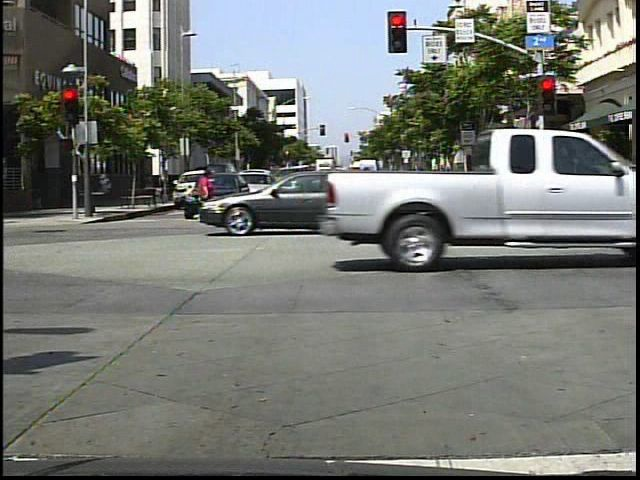person: (356, 163, 391, 233), (408, 162, 439, 226), (186, 166, 213, 223), (569, 157, 591, 207)
